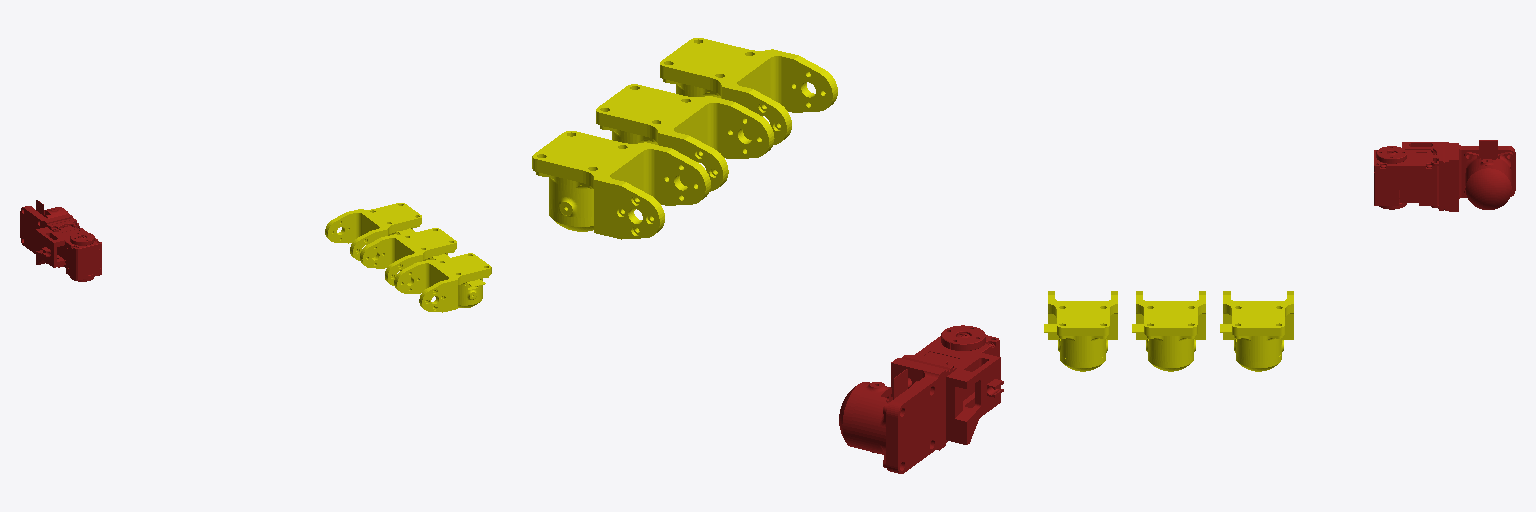
robot.urdf — onshape:
<robot name="onshape">
<link name="palm_lower">
<visual>
<origin xyz="-0.020095249652862544332 0.025757756134899473244 -0.034722403578460216134" rpy="0 -0 0" />
<geometry>
<mesh filename="package://leap_hand_densetact/model/leap_right/palm_lower.stl"/>
</geometry>
<material name="palm_lower_material">
<color rgba="0.60392156862745094426 0.14901960784313725283 0.14901960784313725283 1.0"/>
</material>
</visual>
<collision>
<origin xyz="-0.020095249652862544332 0.025757756134899473244 -0.034722403578460216134" rpy="0 -0 0" />
<geometry>
<mesh filename="package://leap_hand_densetact/model/leap_right/palm_lower.stl"/>
</geometry>
</collision>
<inertial>
<origin xyz="0 0 0" rpy="0 0 0"/>
<mass value="0.237" />
<inertia ixx="0.000354094" ixy="-0.000001193"  ixz="-0.000002445" iyy="0.000260915" iyz="-0.000002905" izz="0.000529257" />
</inertial>
</link>

<link name="mcp_joint">
<visual>
<origin xyz="0.0084069022611744960438 0.0077662438597169954416 0.014657354985032912051" rpy="1.6375789613220999807e-15 -1.0210473302491019535e-30 1.7177968783327987474e-31" />
<geometry>
<mesh filename="package://leap_hand_densetact/model/leap_right/mcp_joint.stl"/>
</geometry>
<material name="mcp_joint_material">
<color rgba="0.86666666666666669627 0.86666666666666669627 0.050980392156862744391 1.0"/>
</material>
</visual>
<collision>
<origin xyz="0.0084069022611744960438 0.0077662438597169954416 0.014657354985032912051" rpy="1.6375789613220999807e-15 -1.0210473302491019535e-30 1.7177968783327987474e-31" />
<geometry>
<mesh filename="package://leap_hand_densetact/model/leap_right/mcp_joint.stl"/>
</geometry>
</collision>
<inertial>
<origin xyz="0 0 0" rpy="0 0 0"/>
<mass value="0.044" />
<inertia ixx="0.000011499" ixy="0.000003049"  ixz="0.000000121" iyy="0.000007796" iyz="0.000000112" izz="0.000014759" />
</inertial>
</link>

<link name="pip">
<visual>
<origin xyz="0.0096433630922713280131 0.00029999999999998951117 0.00078403401041737645627" rpy="-1.570796326794896558 -1.570796326794896336 0" />
<geometry>
<mesh filename="package://leap_hand_densetact/model/leap_right/pip.stl"/>
</geometry>
<material name="pip_material">
<color rgba="0.74901960784313725839 0.74901960784313725839 0.74901960784313725839 1.0"/>
</material>
</visual>
<collision>
<origin xyz="0.0096433630922713280131 0.00029999999999998951117 0.00078403401041737645627" rpy="-1.570796326794896558 -1.570796326794896336 0" />
<geometry>
<mesh filename="package://leap_hand_densetact/model/leap_right/pip.stl"/>
</geometry>
</collision>
<inertial>
<origin xyz="0 0 0" rpy="0 0 0"/>
<mass value="0.032" />
<inertia ixx="0.000004798" ixy="0.000000012"  ixz="0.000000004" iyy="0.000002862" iyz="0.000000011" izz="0.000004234" />
</inertial>
</link>

<link name="dip">
<visual>
<origin xyz="0.021133352895225002849 -0.0084321191467048792201 0.0097850881620952408213" rpy="-3.141592653589793116 4.5075111242164408299e-32 4.4395481053923607589e-32" />
<geometry>
<mesh filename="package://leap_hand_densetact/model/leap_right/dip.stl"/>
</geometry>
<material name="dip_material">
<color rgba="0.86666666666666669627 0.86666666666666669627 0.050980392156862744391 1.0"/>
</material>
</visual>
<collision>
<origin xyz="0.021133352895225002849 -0.0084321191467048792201 0.0097850881620952408213" rpy="-3.141592653589793116 4.5075111242164408299e-32 4.4395481053923607589e-32" />
<geometry>
<mesh filename="package://leap_hand_densetact/model/leap_right/dip.stl"/>
</geometry>
</collision>
<inertial>
<origin xyz="0 0 0" rpy="0 0 0"/>
<mass value="0.037" />
<inertia ixx="0.000005542" ixy="-0.000000607"  ixz="-0.000000017" iyy="0.000005727" iyz="-0.000000023" izz="0.000006682" />
</inertial>
</link>

<link name="fingertip">
<visual>
<origin xyz="-0.022 0.0099 0.035" rpy="1.57079632679 1.57079632679 4.4395481053923607589e-32" />
<geometry>
<mesh filename="package://leap_hand_densetact/model/leap_right/dt_fingertip_90_assy.stl"/>
</geometry>
<material name="fingertip_material">
<color rgba="0.86666666666666669627 0.86666666666666669627 0.050980392156862744391 1.0"/>
</material>
</visual>
<collision>
<origin xyz="-0.022 0.0099 0.035" rpy="1.57079632679 1.57079632679 4.4395481053923607589e-32" />
<geometry>
<mesh filename="package://leap_hand_densetact/model/leap_right/dt_fingertip_90_assy.stl"/>
</geometry>
</collision>
<inertial>
<origin xyz="0 0 0" rpy="0 0 0"/>
<mass value="0.016" />
<inertia ixx="0.000003368" ixy="0.000000115"  ixz="0" iyy="0.000001556" iyz="0" izz="0.000002863" />
</inertial>
</link>

<joint name="0" type="revolute">
<origin xyz="-0.012200000000000007713 0.038099999999999994982 0.014500000000000000736" rpy="-1.570796326794896558 -1.0065212660796336576e-15 1.5707963267948943376" />
<parent link="mcp_joint" />
<child link="pip" />
<axis xyz="0 0 -1"/>
<limit effort="0.95" velocity="8.48" lower = "-1.047" upper = "1.047"/>
<joint_properties friction="0.0"/>
</joint>

<joint name="1" type="revolute">
<origin xyz="-0.0070952496528625457958 0.023057756134899472233 -0.01872240357846021927" rpy="1.5707963267948950037 1.5707963267948945596 0" />
<parent link="palm_lower" />
<child link="mcp_joint" />
<axis xyz="0 0 -1"/>
<limit effort="0.95" velocity="8.48" lower = "-0.314" upper = "2.23"/>
<joint_properties friction="0.0"/>
</joint>

<joint name="2" type="revolute">
<origin xyz="0.01499999999999996822 0.014299999999999904801 -0.012999999999999824196" rpy="1.5707963267948958919 -1.570796326794896336 0" />
<parent link="pip" />
<child link="dip" />
<axis xyz="0 0 -1"/>
<limit effort="0.95" velocity="8.48" lower = "-0.506" upper = "1.885"/>  
<joint_properties friction="0.0"/>
</joint>

<joint name="3" type="revolute">
<origin xyz="-4.0880582495572692636e-09 -0.036100004210367367397 0.00020000000000007858714" rpy="4.5935029425113685044e-17 -2.8730071914463794583e-16 4.4395481053923607589e-32" />
<parent link="dip" />
<child link="fingertip" />
<axis xyz="0 0 -1"/>
<limit effort="0.95" velocity="8.48" lower = "-0.366" upper = "2.042"/>   
<joint_properties friction="0.0"/>
</joint>

<link name="mcp_joint_2">
<visual>
<origin xyz="0.0084069022611744960438 0.0077662438597169954416 0.014657354985032913786" rpy="1.6375789613220999807e-15 -1.0076465469034000467e-30 2.1209300131419907151e-61" />
<geometry>
<mesh filename="package://leap_hand_densetact/model/leap_right/mcp_joint.stl"/>
</geometry>
<material name="mcp_joint_material">
<color rgba="0.86666666666666669627 0.86666666666666669627 0.050980392156862744391 1.0"/>
</material>
</visual>
<collision>
<origin xyz="0.0084069022611744960438 0.0077662438597169954416 0.014657354985032913786" rpy="1.6375789613220999807e-15 -1.0076465469034000467e-30 2.1209300131419907151e-61" />
<geometry>
<mesh filename="package://leap_hand_densetact/model/leap_right/mcp_joint.stl"/>
</geometry>
</collision>
<inertial>
<origin xyz="0 0 0" rpy="0 0 0"/>
<mass value="0.044" />
<inertia ixx="0.000011499" ixy="0.000003049"  ixz="0.000000121" iyy="0.000007796" iyz="0.000000112" izz="0.000014759" />
</inertial>
</link>

<link name="pip_2">
<visual>
<origin xyz="0.0096433630922713280131 0.00029999999999999471534 0.00078403401041737645627" rpy="-1.570796326794896558 -1.570796326794896336 0" />
<geometry>
<mesh filename="package://leap_hand_densetact/model/leap_right/pip.stl"/>
</geometry>
<material name="pip_material">
<color rgba="0.74901960784313725839 0.74901960784313725839 0.74901960784313725839 1.0"/>
</material>
</visual>
<collision>
<origin xyz="0.0096433630922713280131 0.00029999999999999471534 0.00078403401041737645627" rpy="-1.570796326794896558 -1.570796326794896336 0" />
<geometry>
<mesh filename="package://leap_hand_densetact/model/leap_right/pip.stl"/>
</geometry>
</collision>
<inertial>
<origin xyz="0 0 0" rpy="0 0 0"/>
<mass value="0.032" />
<inertia ixx="0.000004798" ixy="0.000000012"  ixz="0.000000004" iyy="0.000002862" iyz="0.000000011" izz="0.000004234" />
</inertial>
</link>

<link name="dip_2">
<visual>
<origin xyz="0.021133352895225002849 -0.0084321191467048653423 0.0097850881620952373519" rpy="-3.141592653589793116 2.1146933785271955805e-32 1.4408183216511868558e-31" />
<geometry>
<mesh filename="package://leap_hand_densetact/model/leap_right/dip.stl"/>
</geometry>
<material name="dip_material">
<color rgba="0.86666666666666669627 0.86666666666666669627 0.050980392156862744391 1.0"/>
</material>
</visual>
<collision>
<origin xyz="0.021133352895225002849 -0.0084321191467048653423 0.0097850881620952373519" rpy="-3.141592653589793116 2.1146933785271955805e-32 1.4408183216511868558e-31" />
<geometry>
<mesh filename="package://leap_hand_densetact/model/leap_right/dip.stl"/>
</geometry>
</collision>
<inertial>
<origin xyz="0 0 0" rpy="0 0 0"/>
<mass value="0.037" />
<inertia ixx="0.000005542" ixy="-0.000000607"  ixz="-0.000000017" iyy="0.000005727" iyz="-0.000000023" izz="0.000006682" />
</inertial>
</link>

<link name="fingertip_2">
<visual>
<origin xyz="-0.022 0.0099 0.035" rpy="1.57079632679 1.57079632679 4.4395481053923607589e-32" />
<geometry>
<mesh filename="package://leap_hand_densetact/model/leap_right/dt_fingertip_90_assy.stl"/>
</geometry>
<material name="fingertip_material">
<color rgba="0.86666666666666669627 0.86666666666666669627 0.050980392156862744391 1.0"/>
</material>
</visual>
<collision>
<origin xyz="-0.022 0.0099 0.035" rpy="1.57079632679 1.57079632679 4.4395481053923607589e-32" />
<geometry>
<mesh filename="package://leap_hand_densetact/model/leap_right/dt_fingertip_90_assy.stl"/>
</geometry>
</collision>
<inertial>
<origin xyz="0 0 0" rpy="0 0 0"/>
<mass value="0.016" />
<inertia ixx="0.000003368" ixy="0.000000115"  ixz="0" iyy="0.000001556" iyz="0" izz="0.000002863" />
</inertial>
</link>

<joint name="4" type="revolute">
<origin xyz="-0.012200000000000019856 0.038099999999999981104 0.01450000000000000594" rpy="-1.570796326794896558 -1.0065212760057939085e-15 1.5707963267948943376" />
<parent link="mcp_joint_2" />
<child link="pip_2" />
<axis xyz="0 0 -1"/>
<limit effort="0.95" velocity="8.48" lower = "-1.047" upper = "1.047"/>
<joint_properties friction="0.0"/>
</joint>

<joint name="5" type="revolute">
<origin xyz="-0.0070952496528625388569 -0.022392243865100525113 -0.018722403578460229678" rpy="1.570796326794896558 1.570796326794896558 0" />
<parent link="palm_lower" />
<child link="mcp_joint_2" />
<axis xyz="0 0 -1"/>
<limit effort="0.95" velocity="8.48" lower = "-0.314" upper = "2.23"/>
<joint_properties friction="0.0"/>
</joint>

<joint name="6" type="revolute">
<origin xyz="0.014999999999999975159 0.014300000000000000211 -0.013000000000000018485" rpy="1.5707963267948958919 -1.570796326794896336 0" />
<parent link="pip_2" />
<child link="dip_2" />
<axis xyz="0 0 -1"/>
<limit effort="0.95" velocity="8.48" lower = "-0.506" upper = "1.885"/>  
<joint_properties friction="0.0"/>
</joint>

<joint name="7" type="revolute">
<origin xyz="1.0061396160665481148e-16 -0.036099999999999854428 0.00020000000000007858714" rpy="4.5935029425113654229e-17 -2.8730071914463794583e-16 1.4408183216511868558e-31" />
<parent link="dip_2" />
<child link="fingertip_2" />
<axis xyz="0 0 -1"/>
<limit effort="0.95" velocity="8.48" lower = "-0.366" upper = "2.042"/>   
<joint_properties friction="0.0"/>
</joint>

<link name="mcp_joint_3">
<visual>
<origin xyz="0.0084069022611744995133 0.0077662438597169963089 0.014657354985032913786" rpy="1.6375789613220999807e-15 -1.0059504988632626953e-30 5.729641584552035421e-32" />
<geometry>
<mesh filename="package://leap_hand_densetact/model/leap_right/mcp_joint.stl"/>
</geometry>
<material name="mcp_joint_material">
<color rgba="0.86666666666666669627 0.86666666666666669627 0.050980392156862744391 1.0"/>
</material>
</visual>
<collision>
<origin xyz="0.0084069022611744995133 0.0077662438597169963089 0.014657354985032913786" rpy="1.6375789613220999807e-15 -1.0059504988632626953e-30 5.729641584552035421e-32" />
<geometry>
<mesh filename="package://leap_hand_densetact/model/leap_right/mcp_joint.stl"/>
</geometry>
</collision>
<inertial>
<origin xyz="0 0 0" rpy="0 0 0"/>
<mass value="0.044" />
<inertia ixx="0.000011499" ixy="0.000003049"  ixz="0.000000121" iyy="0.000007796" iyz="0.000000112" izz="0.000014759" />
</inertial>
</link>

<link name="pip_3">
<visual>
<origin xyz="0.0096433630922713314826 0.00029999999999998083755 0.00078403401041737645627" rpy="-1.570796326794896558 -1.570796326794896336 0" />
<geometry>
<mesh filename="package://leap_hand_densetact/model/leap_right/pip.stl"/>
</geometry>
<material name="pip_material">
<color rgba="0.74901960784313725839 0.74901960784313725839 0.74901960784313725839 1.0"/>
</material>
</visual>
<collision>
<origin xyz="0.0096433630922713314826 0.00029999999999998083755 0.00078403401041737645627" rpy="-1.570796326794896558 -1.570796326794896336 0" />
<geometry>
<mesh filename="package://leap_hand_densetact/model/leap_right/pip.stl"/>
</geometry>
</collision>
<inertial>
<origin xyz="0 0 0" rpy="0 0 0"/>
<mass value="0.032" />
<inertia ixx="0.000004798" ixy="0.000000012"  ixz="0.000000004" iyy="0.000002862" iyz="0.000000011" izz="0.000004234" />
</inertial>
</link>

<link name="dip_3">
<visual>
<origin xyz="0.021133352895225006318 -0.0084321191467048653423 0.0097850881620952373519" rpy="-3.141592653589793116 -1.4095651113919093005e-33 1.5565411607615035382e-32" />
<geometry>
<mesh filename="package://leap_hand_densetact/model/leap_right/dip.stl"/>
</geometry>
<material name="dip_material">
<color rgba="0.86666666666666669627 0.86666666666666669627 0.050980392156862744391 1.0"/>
</material>
</visual>
<collision>
<origin xyz="0.021133352895225006318 -0.0084321191467048653423 0.0097850881620952373519" rpy="-3.141592653589793116 -1.4095651113919093005e-33 1.5565411607615035382e-32" />
<geometry>
<mesh filename="package://leap_hand_densetact/model/leap_right/dip.stl"/>
</geometry>
</collision>
<inertial>
<origin xyz="0 0 0" rpy="0 0 0"/>
<mass value="0.037" />
<inertia ixx="0.000005542" ixy="-0.000000607"  ixz="-0.000000017" iyy="0.000005727" iyz="-0.000000023" izz="0.000006682" />
</inertial>
</link>

<link name="fingertip_3">
<visual>
<origin xyz="-0.022 0.0099 0.035" rpy="1.57079632679 1.57079632679 4.4395481053923607589e-32" />
<geometry>
<mesh filename="package://leap_hand_densetact/model/leap_right/dt_fingertip_90_assy.stl"/>
</geometry>
<material name="fingertip_material">
<color rgba="0.86666666666666669627 0.86666666666666669627 0.050980392156862744391 1.0"/>
</material>
</visual>
<collision>
<origin xyz="-0.022 0.0099 0.035" rpy="1.57079632679 1.57079632679 4.4395481053923607589e-32" />
<geometry>
<mesh filename="package://leap_hand_densetact/model/leap_right/dt_fingertip_90_assy.stl"/>
</geometry>
</collision>
<inertial>
<origin xyz="0 0 0" rpy="0 0 0"/>
<mass value="0.016" />
<inertia ixx="0.000003368" ixy="0.000000115"  ixz="0" iyy="0.000001556" iyz="0" izz="0.000002863" />
</inertial>
</link>

<joint name="8" type="revolute">
<origin xyz="-0.012200000000000004244 0.038100000000000001921 0.014499999999999999001" rpy="-1.570796326794896558 -1.0065212660796360242e-15 1.5707963267948943376" />
<parent link="mcp_joint_3" />
<child link="pip_3" />
<axis xyz="0 0 -1"/>
<limit effort="0.95" velocity="8.48" lower = "-1.047" upper = "1.047"/>
<joint_properties friction="0.0"/>
</joint>

<joint name="9" type="revolute">
<origin xyz="-0.0070952454426398371343 -0.067842243865100515521 -0.018722407666402932774" rpy="1.5707963267948950037 1.5707963267948945596 0" />
<parent link="palm_lower" />
<child link="mcp_joint_3" />
<axis xyz="0 0 -1"/>
<limit effort="0.95" velocity="8.48" lower = "-0.314" upper = "2.23"/>
<joint_properties friction="0.0"/>
</joint>

<joint name="10" type="revolute">
<origin xyz="0.014999999999999971689 0.014299999999999951639 -0.012999999999999959505" rpy="1.5707963267948958919 -1.570796326794896336 0" />
<parent link="pip_3" />
<child link="dip_3" />
<axis xyz="0 0 -1"/>
<limit effort="0.95" velocity="8.48" lower = "-0.506" upper = "1.885"/>  
<joint_properties friction="0.0"/>
</joint>

<joint name="11" type="revolute">
<origin xyz="9.7144514654701197287e-17 -0.036099999999999868305 0.00020000000000007511769" rpy="4.5935029425113685044e-17 -2.8730071914463799514e-16 1.5565411607615035382e-32" />
<parent link="dip_3" />
<child link="fingertip_3" />
<axis xyz="0 0 -1"/>
<limit effort="0.95" velocity="8.48" lower = "-0.366" upper = "2.042"/>   
<joint_properties friction="0.0"/>
</joint>

<link name="pip_4">
<visual>
<origin xyz="-0.0053566369077286714317 0.00029999999999999991951 0.00078403401041737819099" rpy="-1.570796326794896558 -1.570796326794896336 0" />
<geometry>
<mesh filename="package://leap_hand_densetact/model/leap_right/pip.stl"/>
</geometry>
<material name="pip_material">
<color rgba="0.74901960784313725839 0.74901960784313725839 0.74901960784313725839 1.0"/>
</material>
</visual>
<collision>
<origin xyz="-0.0053566369077286714317 0.00029999999999999991951 0.00078403401041737819099" rpy="-1.570796326794896558 -1.570796326794896336 0" />
<geometry>
<mesh filename="package://leap_hand_densetact/model/leap_right/pip.stl"/>
</geometry>
</collision>
<inertial>
<origin xyz="0 0 0" rpy="0 0 0"/>
<mass value="0.032" />
<inertia ixx="0.000004798" ixy="0.000000012"  ixz="0.000000004" iyy="0.000002862" iyz="0.000000011" izz="0.000004234" />
</inertial>
</link>

<link name="thumb_pip">
<visual>
<origin xyz="0.011961920770611186859 -5.3082538364890297089e-16 -0.015852648956664199681" rpy="1.570796326794896558 1.6050198443300152637e-46 -3.9204996250525192755e-59" />
<geometry>
<mesh filename="package://leap_hand_densetact/model/leap_right/thumb_pip.stl"/>
</geometry>
<material name="thumb_pip_material">
<color rgba="0.86666666666666669627 0.86666666666666669627 0.050980392156862744391 1.0"/>
</material>
</visual>
<collision>
<origin xyz="0.011961920770611186859 -5.3082538364890297089e-16 -0.015852648956664199681" rpy="1.570796326794896558 1.6050198443300152637e-46 -3.9204996250525192755e-59" />
<geometry>
<mesh filename="package://leap_hand_densetact/model/leap_right/thumb_pip.stl"/>
</geometry>
</collision>
<inertial>
<origin xyz="0 0 0" rpy="0 0 0"/>
<mass value="0.003" />
<inertia ixx="0.000000593" ixy="0"  ixz="0" iyy="0.000000549" iyz="0" izz="0.000000224" />
</inertial>
</link>

<link name="thumb_dip">
<visual>
<origin xyz="0.043968715707239175439 0.057952952973709198625 -0.0086286764493694757122" rpy="1.9428902930940098942e-16 3.2751579226442200773e-15 1.1123758529657360012e-46" />
<geometry>
<mesh filename="package://leap_hand_densetact/model/leap_right/thumb_dip.stl"/>
</geometry>
<material name="thumb_dip_material">
<color rgba="0.86666666666666669627 0.86666666666666669627 0.050980392156862744391 1.0"/>
</material>
</visual>
<collision>
<origin xyz="0.043968715707239175439 0.057952952973709198625 -0.0086286764493694757122" rpy="1.9428902930940098942e-16 3.2751579226442200773e-15 1.1123758529657360012e-46" />
<geometry>
<mesh filename="package://leap_hand_densetact/model/leap_right/thumb_dip.stl"/>
</geometry>
</collision>
<inertial>
<origin xyz="0 0 0" rpy="0 0 0"/>
<mass value="0.038" />
<inertia ixx="0.000008474" ixy="0.000000241"  ixz="0.000000026" iyy="0.000003841" iyz="0.000000025" izz="0.000007679" />
</inertial>
</link>

<link name="thumb_fingertip">
<visual>
<origin xyz="0.022 0.01 0.005" rpy="3.14159265359 1.57079632679 1.2042408677791935383e-46" />
<geometry>
<mesh filename="package://leap_hand_densetact/model/leap_right/thumb_dt_90_assy.stl"/>
</geometry>
<material name="thumb_fingertip_material">
<color rgba="0.60392156862745094426 0.14901960784313725283 0.14901960784313725283 1.0"/>
</material>
</visual>
<collision>
<origin xyz="0.022 0.01 0.005" rpy="3.14159265359 1.57079632679 1.2042408677791935383e-46" />
<geometry>
<mesh filename="package://leap_hand_densetact/model/leap_right/thumb_dt_90_assy.stl"/>
</geometry>
</collision>
<inertial>
<origin xyz="0 0 0" rpy="0 0 0"/>
<mass value="0.049" />
<inertia ixx="0.000020372" ixy="-0.000000489"  ixz="-0.00000003" iyy="0.000004336" iyz="-0.000000097" izz="0.000019845" />
</inertial>
</link>

<joint name="12" type="revolute">
<origin xyz="-0.069395249652862533996 -0.0012422438651005258004 -0.021622403578460215601" rpy="-8.2381766464939424156e-17 1.5707963267948956698 0" />
<parent link="palm_lower" />
<child link="pip_4" />
<axis xyz="0 0 -1"/>
<limit effort="0.95" velocity="8.48" lower = "-0.349" upper = "2.094"/> 
<joint_properties friction="0.0"/>
</joint>

<joint name="13" type="revolute">
<origin xyz="-2.7755575615628913511e-17 0.014300000000000005415 -0.013000000000000011546" rpy="1.5707963267948958919 -1.570796326794896336 0" />
<parent link="pip_4" />
<child link="thumb_pip" />
<axis xyz="0 0 -1"/>
<limit effort="0.95" velocity="8.48" lower = "-0.47" upper = "2.443"/> 
<joint_properties friction="0.0"/>
</joint>

<joint name="14" type="revolute">
<origin xyz="0 0.014499999999999966041 -0.017000000000000053263" rpy="-1.570796326794896558 1.6050198443300131245e-46 -1.9721522630516624601e-31" />
<parent link="thumb_pip" />
<child link="thumb_dip" />
<axis xyz="0 0 -1"/>
<limit effort="0.95" velocity="8.48" lower = "-1.20" upper = "1.90"/> 
<joint_properties friction="0.0"/>
</joint>

<joint name="15" type="revolute">
<origin xyz="-1.249000902703301108e-16 0.046599999999999863753 0.00019999999999997710581" rpy="1.5063958491491781023e-44 5.4234187233935260503e-31 3.141592653589793116" />
<parent link="thumb_dip" />
<child link="thumb_fingertip" />
<axis xyz="0 0 -1"/>
<limit effort="0.95" velocity="8.48" lower = "-1.34" upper = "1.88"/> 
<joint_properties friction="0.0"/>
</joint>

<link name="world"/>
<joint name="palm_to_world" type="fixed">
  <parent link="world"/>
  <child link="palm_lower"/> <!-- Replace 'palm_link' with the name of your palm link -->
  <origin xyz="0 0 0" rpy="0 0 0"/> <!-- Adjust the position and orientation as needed -->
</joint>



</robot>

--- What the picture shows (computed from the rendered views, not written in the file) ---
3 views of the same robot in one strip: view 1: azimuth 30°, elevation 25°; view 2: azimuth 150°, elevation 25°; view 3: azimuth 270°, elevation 25° (orthographic).
Robot: onshape — 18 links, 17 joints (16 revolute, 1 fixed); root link world; default pose: all joints at 0.
Visible links, largest first — view 1: thumb_fingertip, fingertip_3, fingertip_2, fingertip; view 2: thumb_fingertip, fingertip, fingertip_2, fingertip_3; view 3: thumb_fingertip, fingertip, fingertip_3, fingertip_2.
Link boxes in pixels (bbox=[...]): thumb_fingertip: bbox=[20, 200, 101, 281]; fingertip_3: bbox=[394, 253, 491, 312]; fingertip_2: bbox=[360, 228, 456, 285]; fingertip: bbox=[325, 203, 421, 260]; thumb_fingertip: bbox=[839, 325, 1003, 473]; fingertip: bbox=[532, 131, 710, 239]; fingertip_2: bbox=[596, 84, 774, 191]; fingertip_3: bbox=[660, 38, 837, 144]; thumb_fingertip: bbox=[1374, 140, 1515, 211]; fingertip: bbox=[1220, 291, 1293, 371]; fingertip_3: bbox=[1044, 291, 1117, 371]; fingertip_2: bbox=[1132, 291, 1205, 371].
Bounding box of the posed robot: 0.2332 × 0.2438 × 0.0372 m (x, y, z).
4 mesh visuals loaded from 8 distinct referenced files (2 binary STL); not drawn: 13 (reference not matched to a file when rendering).